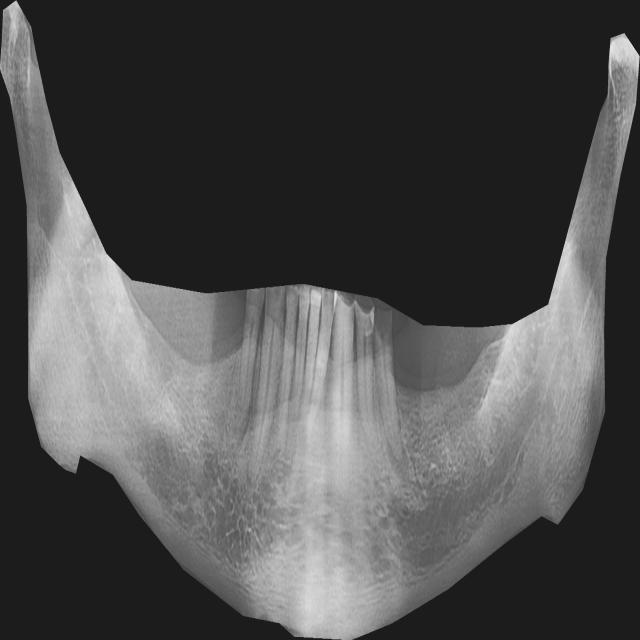mandibula: (0, 0, 640, 640)
